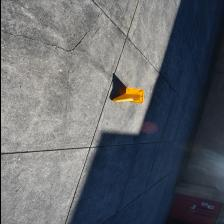cone: (112, 88, 144, 104)
